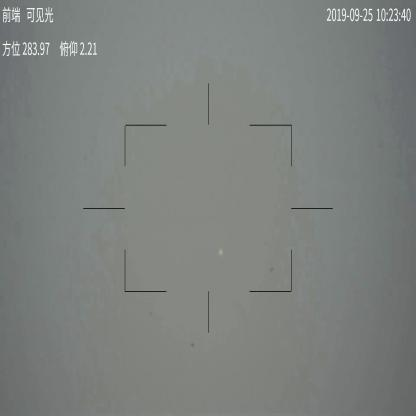uav: (218, 248, 224, 259)
